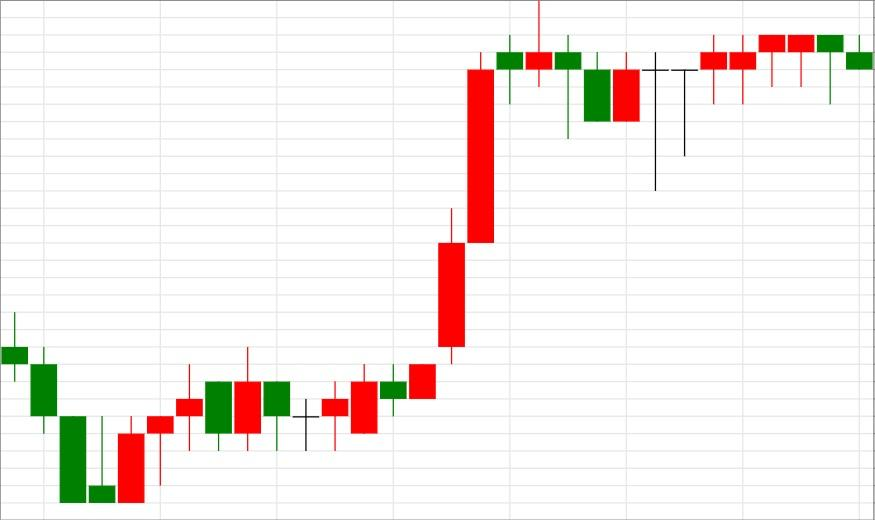hanging_man_fall: (584, 34, 845, 192)
inverse_hammer_rise: (0, 312, 116, 504)
three_white_soldiers_rise: (0, 312, 204, 503)
